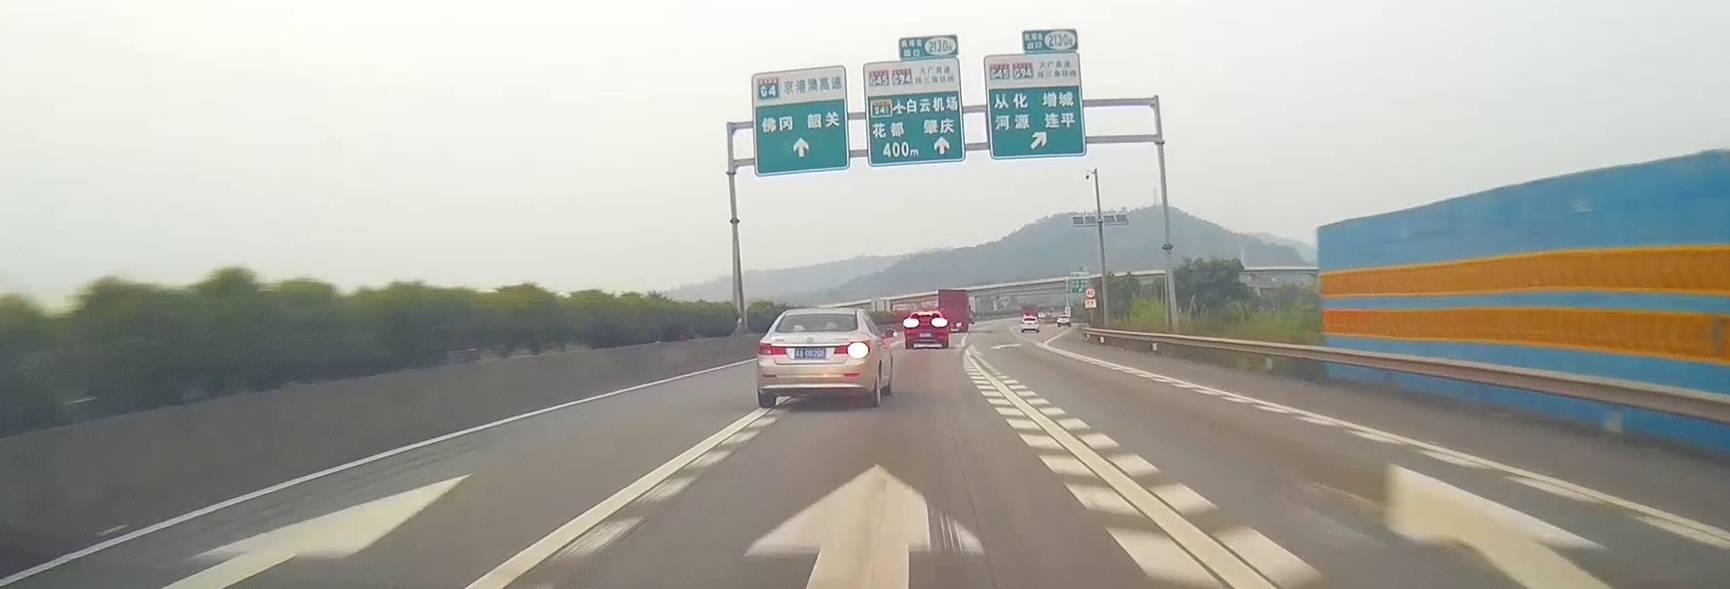L_light: (758, 341, 787, 355), (905, 321, 915, 326)
R_light: (833, 340, 871, 355), (933, 321, 944, 325)
T_light: (808, 314, 823, 318), (921, 313, 930, 315)
day-brake: (904, 311, 947, 349)
day-right: (756, 308, 873, 406)
